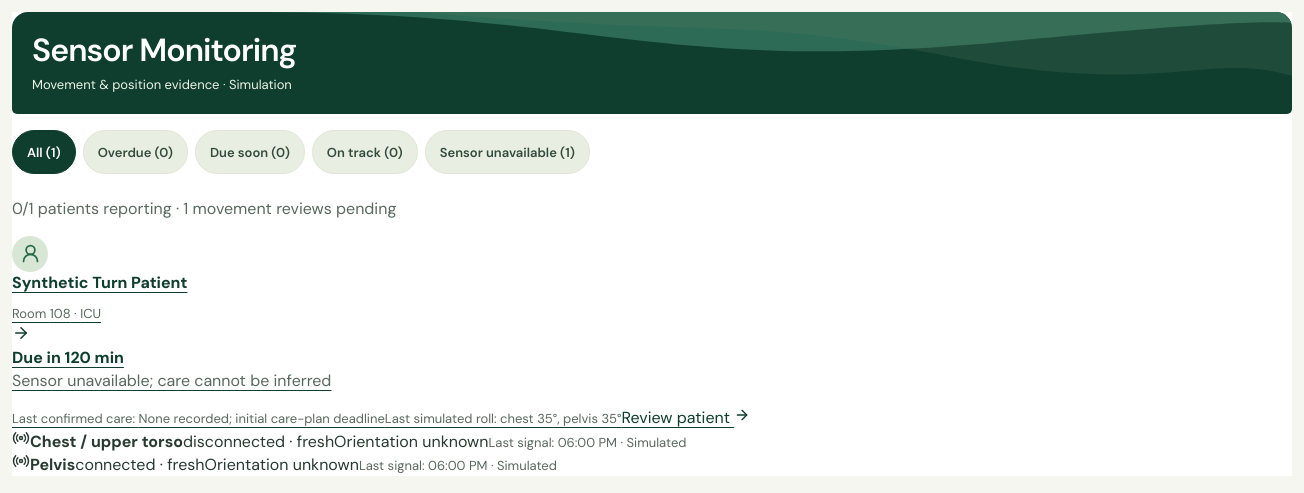
it: never counts unavailable on-track evidence as compliant and filters sensor cards
Click the button "On track (0)": click(365, 152) [312,130,418,174]
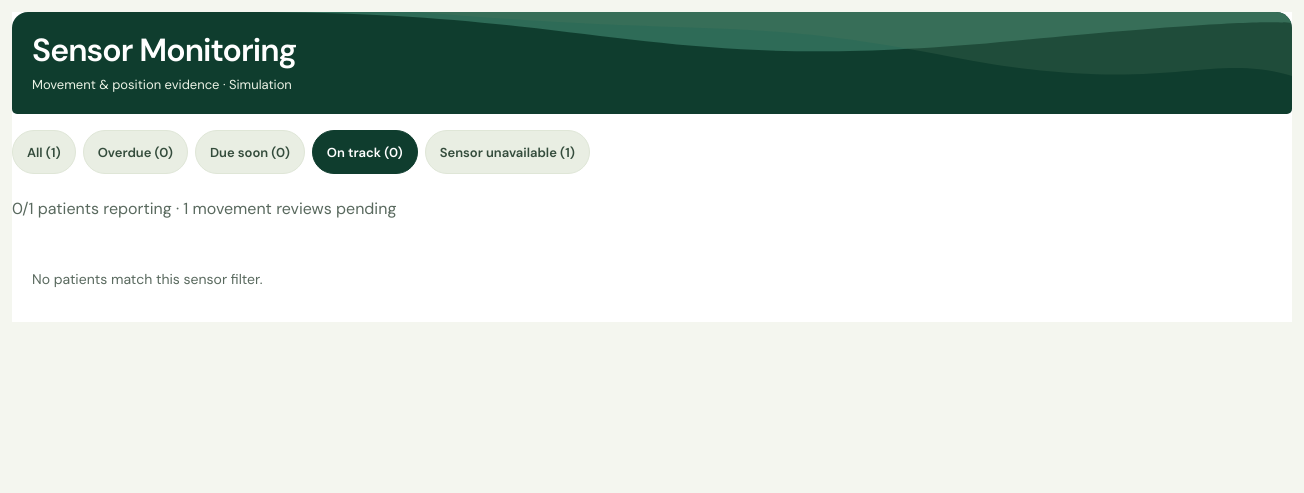
Expected: the text "No patients match this sensor filter." is shown, [32,270,262,288]
Click the button "Sensor unavailable (1)": click(507, 152) [425,130,590,174]
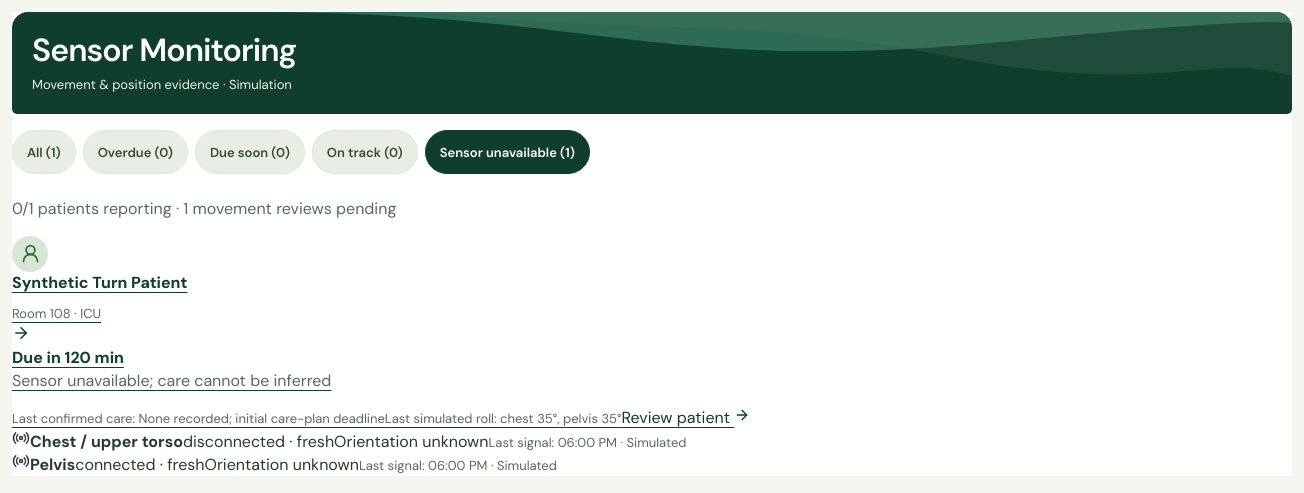
Expected: the heading "Synthetic Turn Patient" is shown, [12,272,187,293]
